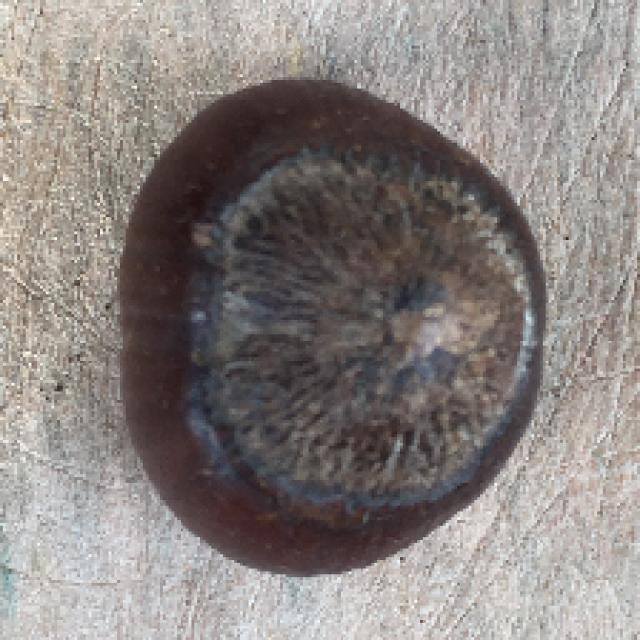damagedHazelnut: (107, 65, 554, 578)
